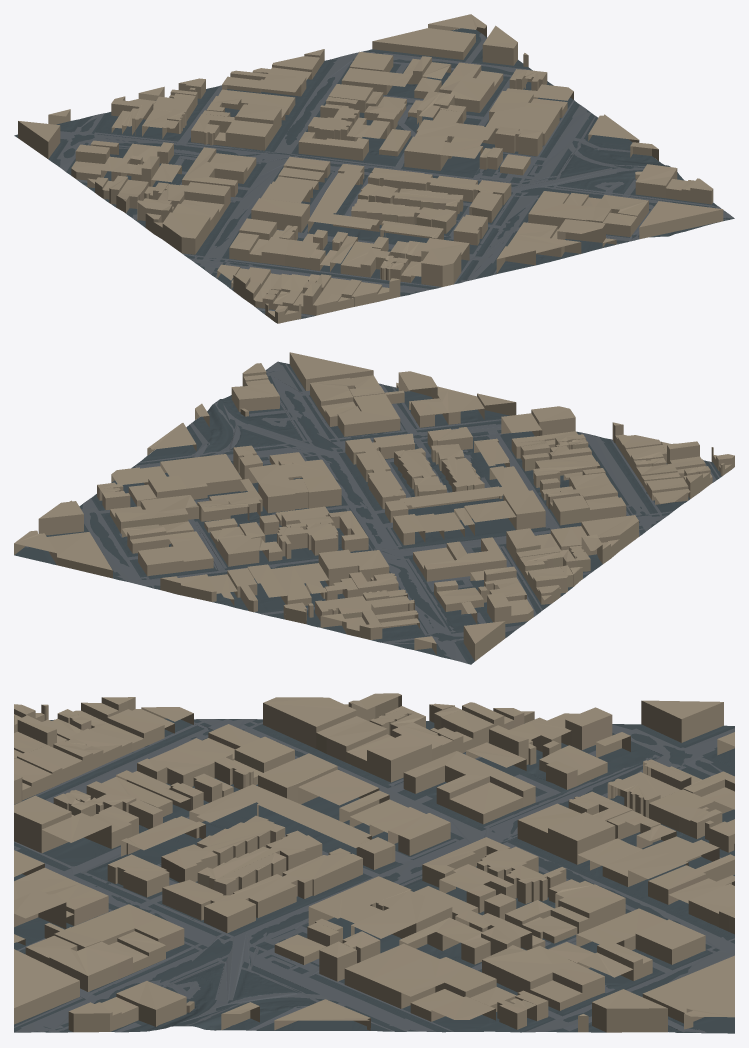
File: epsg26910-1437-10887.lod0.glb
The picture shows the model from 3 angles, top to bottom: view 1: azimuth 30°, elevation 25°; view 2: azimuth 150°, elevation 25°; view 3: azimuth 270°, elevation 25°; orthographic projection. The views are drawn at different scales.
Parts seen in each view (by area): view 1: epsg26910-1437-10887-lod0; view 2: epsg26910-1437-10887-lod0; view 3: epsg26910-1437-10887-lod0.
Boxes of the visible parts, box(x1,y1,x2,y2) form: epsg26910-1437-10887-lod0: box(14, 14, 734, 323); epsg26910-1437-10887-lod0: box(14, 352, 734, 664); epsg26910-1437-10887-lod0: box(14, 693, 734, 1033).
Bounding box in the file's own units: 384 × 21.97 × 384.
